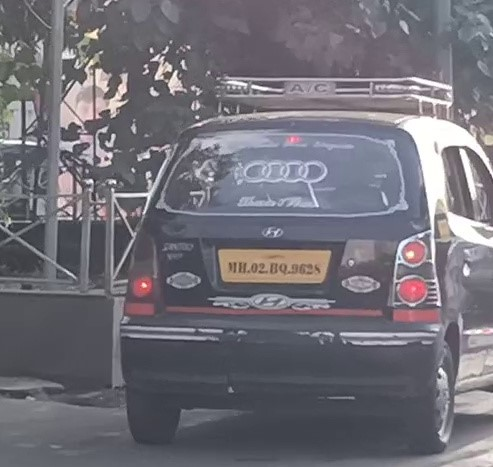MH02BQ9628: (219, 249, 331, 280)
